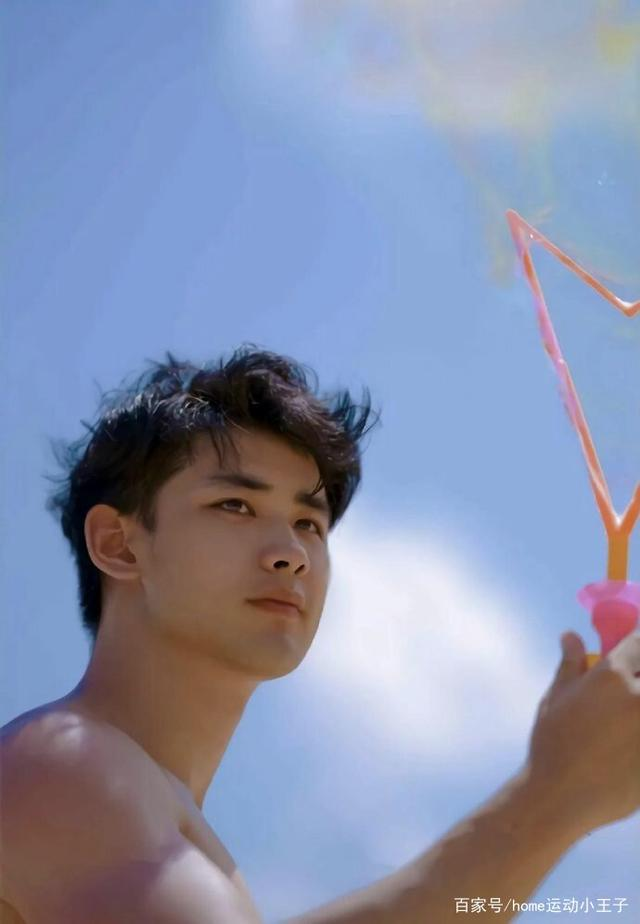person: (21, 244, 421, 924)
